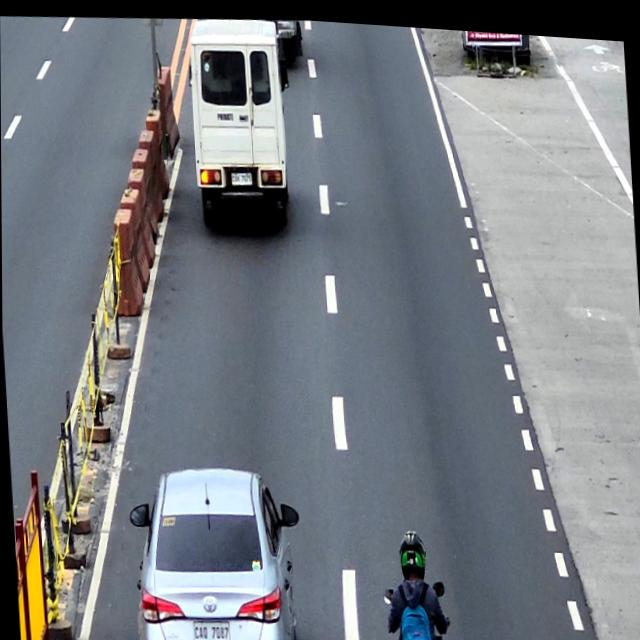Car: (126, 455, 306, 640), (185, 11, 296, 236)
License-Plate: (192, 618, 230, 640), (231, 168, 252, 183)
